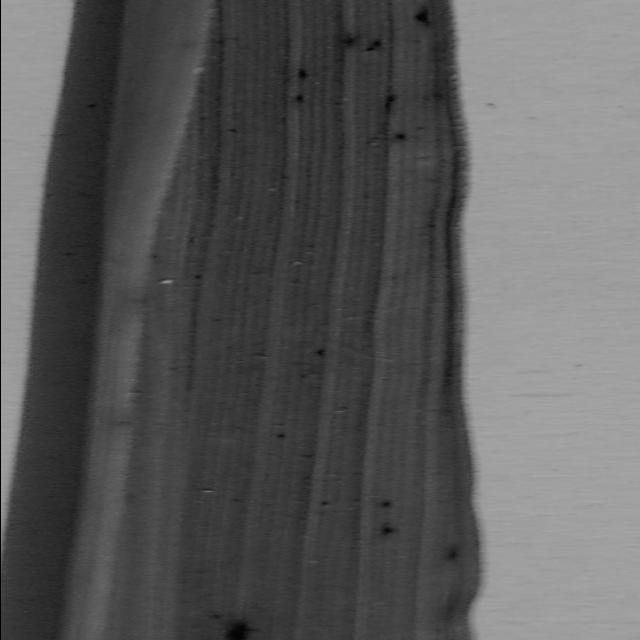Brown_Spot: (271, 0, 549, 166), (314, 484, 426, 546), (206, 609, 276, 640)
